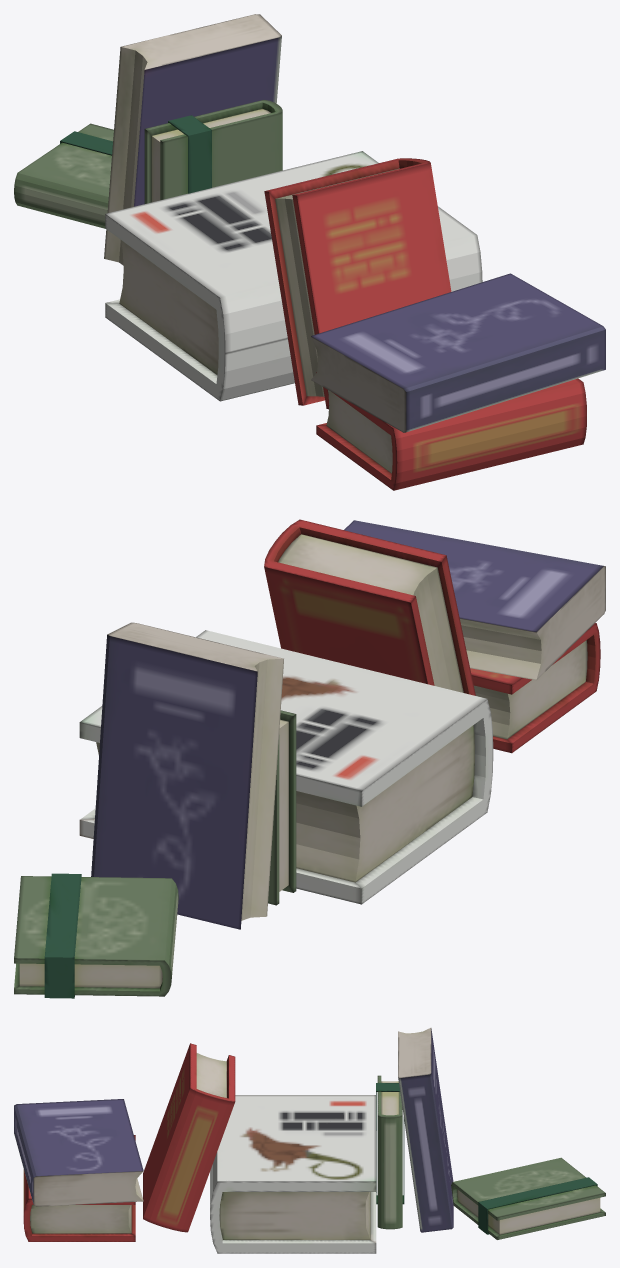
File: books.fbx
The picture shows the model from 3 angles, top to bottom: view 1: azimuth 30°, elevation 25°; view 2: azimuth 150°, elevation 25°; view 3: azimuth 270°, elevation 25°; orthographic projection. The views are drawn at different scales.
Parts seen in each view (by area): view 1: books.001, books.002, books.003, books.006, books.004, books.005, books.007; view 2: books.006, books.001, books.003, books.007, books.002, books.004, books.005; view 3: books.001, books.002, books.003, books.007, books.006, books.004, books.005.
Part boxes in pixels (x1,y1,x2,y2): books.001: (105, 151, 482, 401); books.002: (311, 273, 605, 432); books.003: (264, 158, 451, 409); books.006: (104, 14, 281, 265); books.004: (316, 372, 586, 490); books.005: (144, 100, 282, 203); books.007: (14, 123, 113, 228); books.006: (91, 622, 283, 929); books.001: (79, 630, 493, 904); books.003: (264, 519, 475, 695); books.007: (14, 873, 178, 998); books.002: (344, 520, 605, 680); books.004: (470, 623, 600, 753); books.005: (268, 710, 296, 905); books.001: (210, 1095, 376, 1253); books.002: (14, 1099, 143, 1206); books.003: (143, 1043, 235, 1232); books.007: (451, 1157, 605, 1239); books.006: (398, 1028, 453, 1232); books.004: (23, 1135, 135, 1241); books.005: (376, 1075, 404, 1229).
Size of the model in its own units: 30.42 by 26.03 by 87.65.
